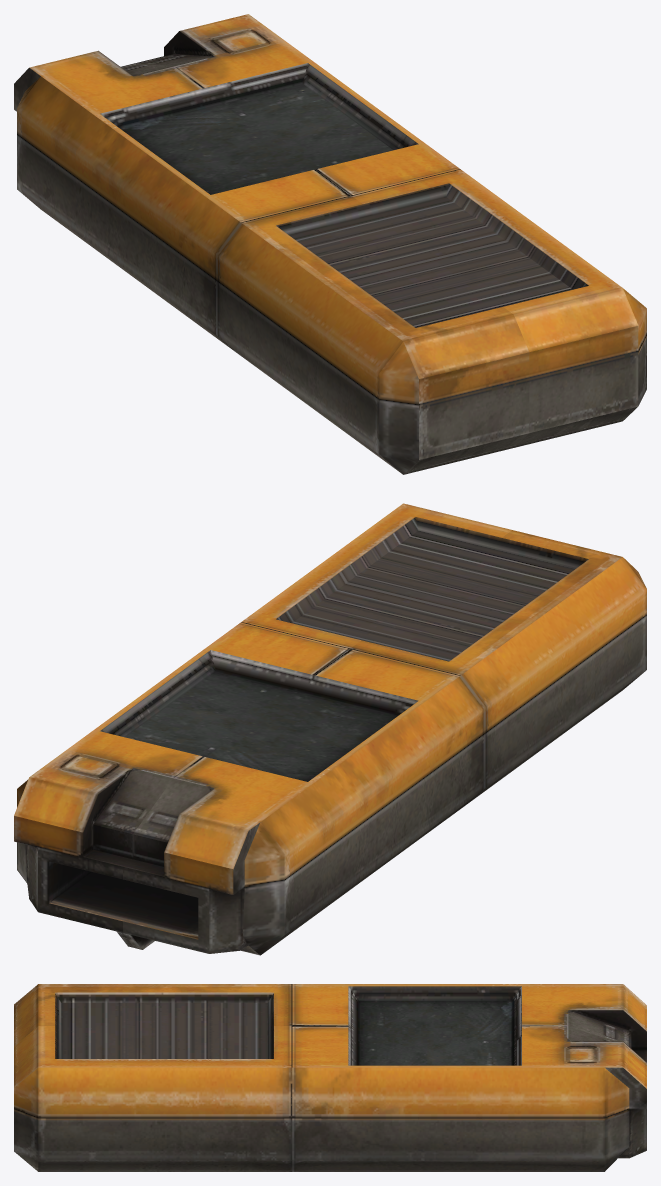
File: audio_log_small.dae
3 renders of one model, top to bottom at view 1: azimuth 30°, elevation 25°; view 2: azimuth 150°, elevation 25°; view 3: azimuth 270°, elevation 25°, orthographic. The views are drawn at different scales.
Parts seen in each view (by area): view 1: audio_log__2_; view 2: audio_log__2_; view 3: audio_log__2_.
Part boxes in pixels (box(x1,y1,x2,y2)): audio_log__2_: box(14, 14, 646, 474); audio_log__2_: box(14, 503, 646, 955); audio_log__2_: box(14, 984, 646, 1171).
Size of the model in its own units: 0.1376 by 0.0695 by 0.3605.
